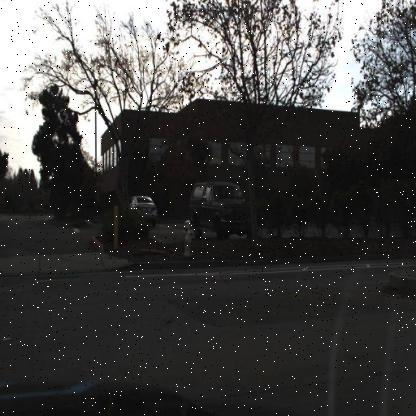car: (185, 177, 256, 241), (186, 177, 254, 241), (127, 194, 158, 224)
